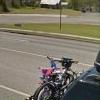Bicycle: (29, 48, 83, 100)
